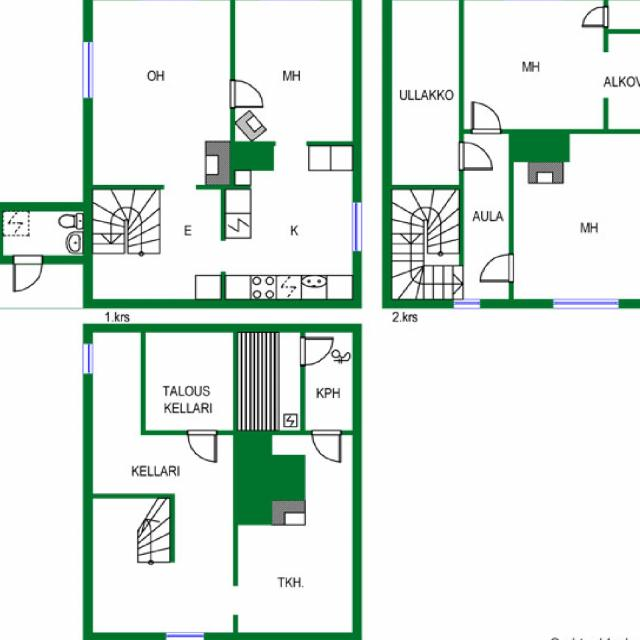door: (14, 256, 42, 292), (276, 142, 306, 174), (572, 130, 602, 162), (480, 254, 514, 282), (188, 431, 217, 463), (231, 79, 264, 107), (231, 52, 264, 80), (459, 143, 493, 170), (312, 431, 341, 462), (473, 102, 501, 134), (427, 103, 455, 134), (583, 6, 609, 27), (0, 269, 3, 297)
